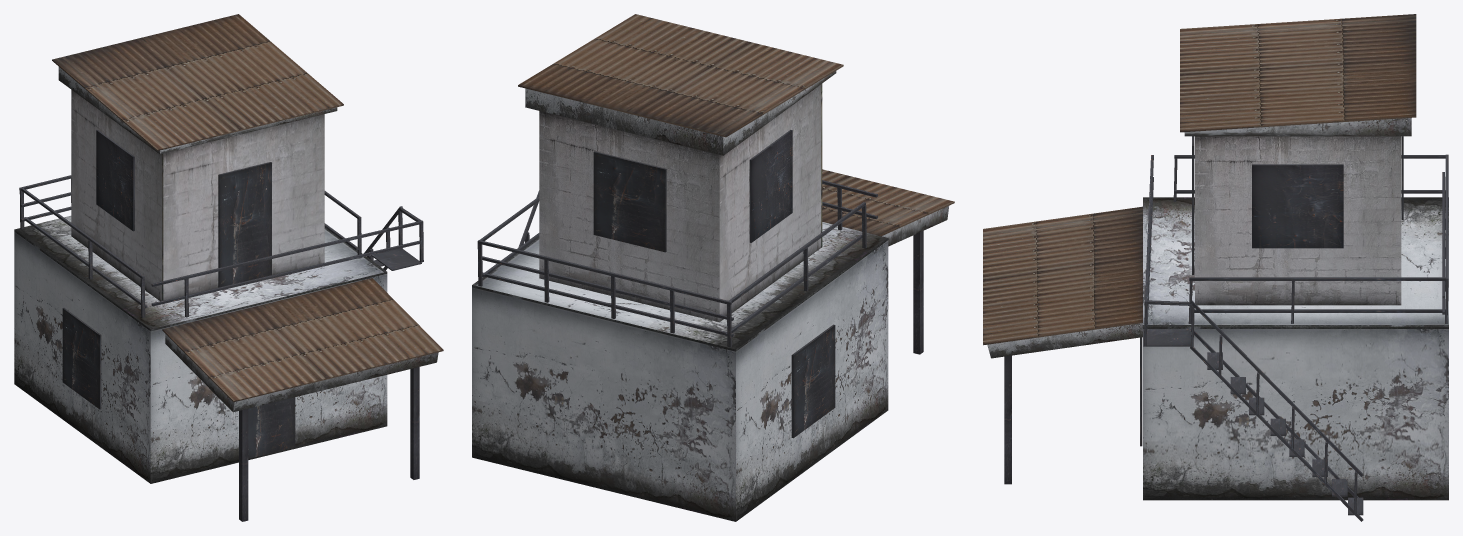
The model's file is r254_maryanovka_dps.FBX.
3 views of the same model, side by side, from view 1: azimuth 30°, elevation 25°; view 2: azimuth 150°, elevation 25°; view 3: azimuth 270°, elevation 25° (orthographic). The views are drawn at different scales.
Parts seen in each view (by area): view 1: r254_maryanovka_dps; view 2: r254_maryanovka_dps; view 3: r254_maryanovka_dps.
Boxes of the visible parts, <box> form: r254_maryanovka_dps: <box>14,14,443,521</box>; r254_maryanovka_dps: <box>472,14,954,521</box>; r254_maryanovka_dps: <box>983,14,1448,521</box>.
Bounding box in the file's own units: 4.66 × 6.09 × 5.35.
